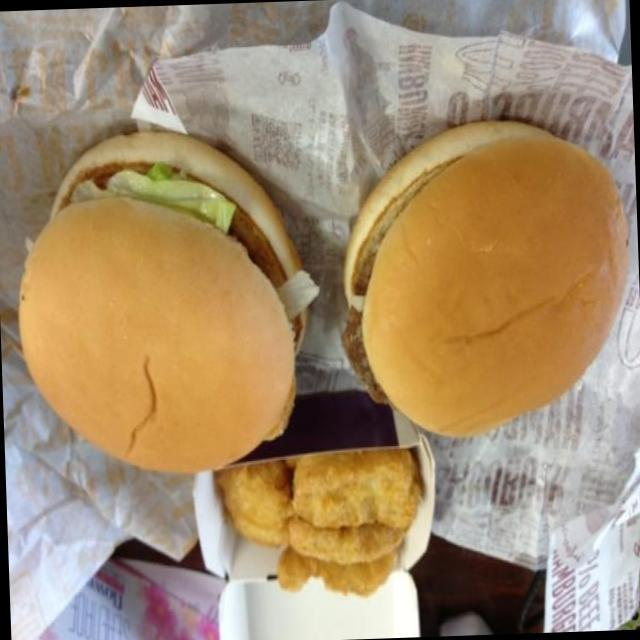Hamburger: (8, 125, 316, 486), (328, 104, 628, 452)
